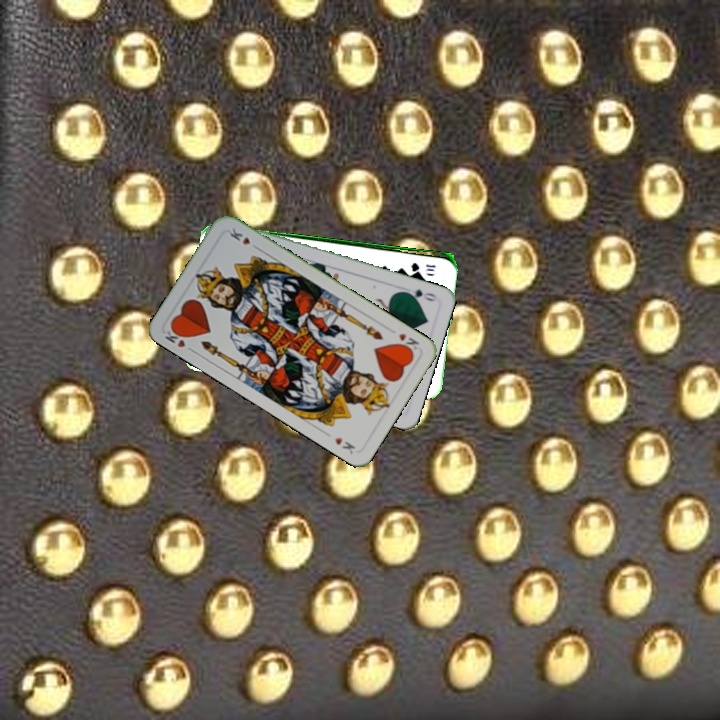G10: (407, 259, 438, 274)
GO: (399, 285, 439, 304)
HK: (160, 323, 197, 355), (393, 329, 422, 356)
